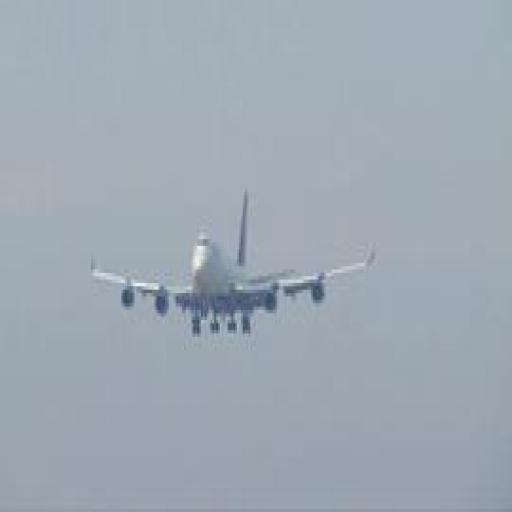aircraft: (91, 186, 375, 333)
